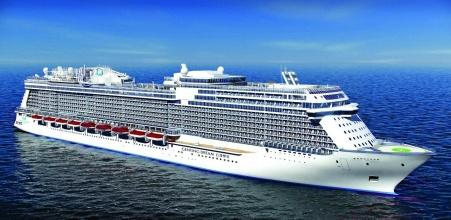youlun: (14, 57, 423, 200)
